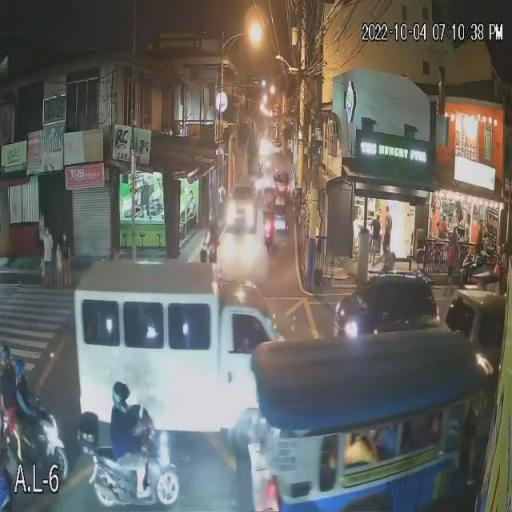helmet: (106, 380, 134, 415), (13, 356, 32, 383), (0, 344, 15, 370)
motorcycle: (74, 408, 187, 508), (4, 395, 76, 485)
rider: (113, 400, 153, 500), (11, 382, 48, 444), (0, 369, 23, 459)
